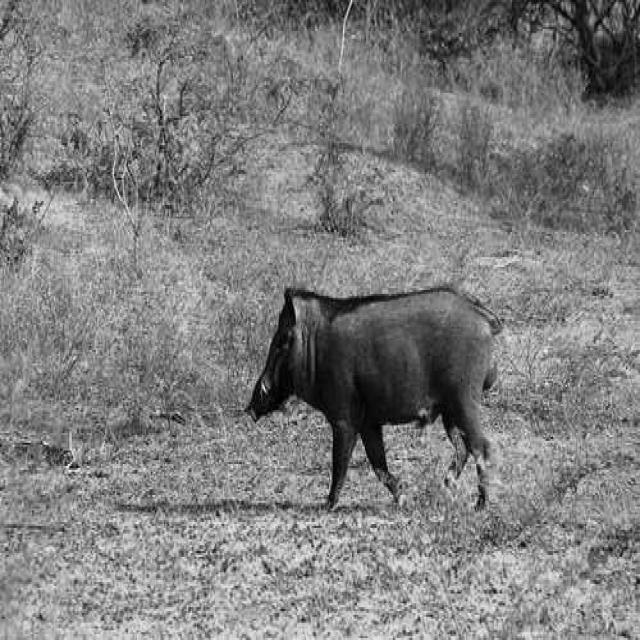boar: (248, 288, 503, 510)
